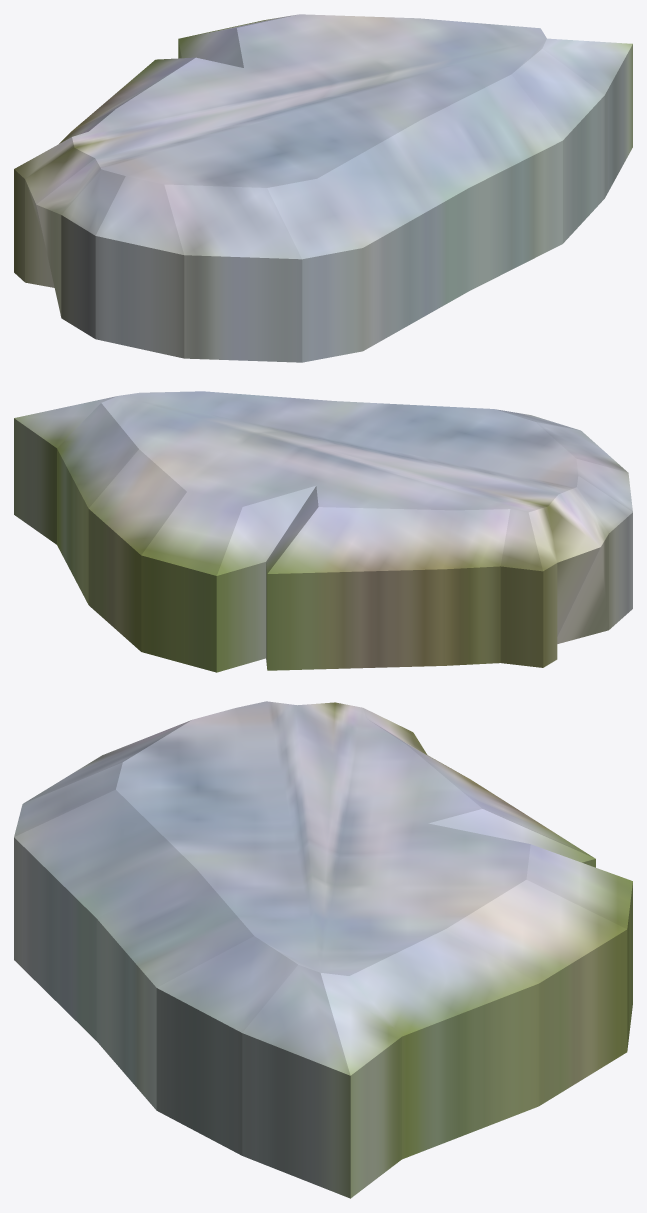
Rendered from stone.36.fbx.
3 views of the same model, one above another, from view 1: azimuth 30°, elevation 25°; view 2: azimuth 150°, elevation 25°; view 3: azimuth 270°, elevation 25° (orthographic). The views are drawn at different scales.
Parts seen in each view (by area): view 1: stone.36; view 2: stone.36; view 3: stone.36.
Boxes of the visible parts, x1,y1,x2,y2 form: stone.36: (14,14,632,362); stone.36: (14,391,632,672); stone.36: (14,701,632,1198).
Bounding box in the file's own units: 43.94 × 9.74 × 32.38.
1 material, 1 textured.
